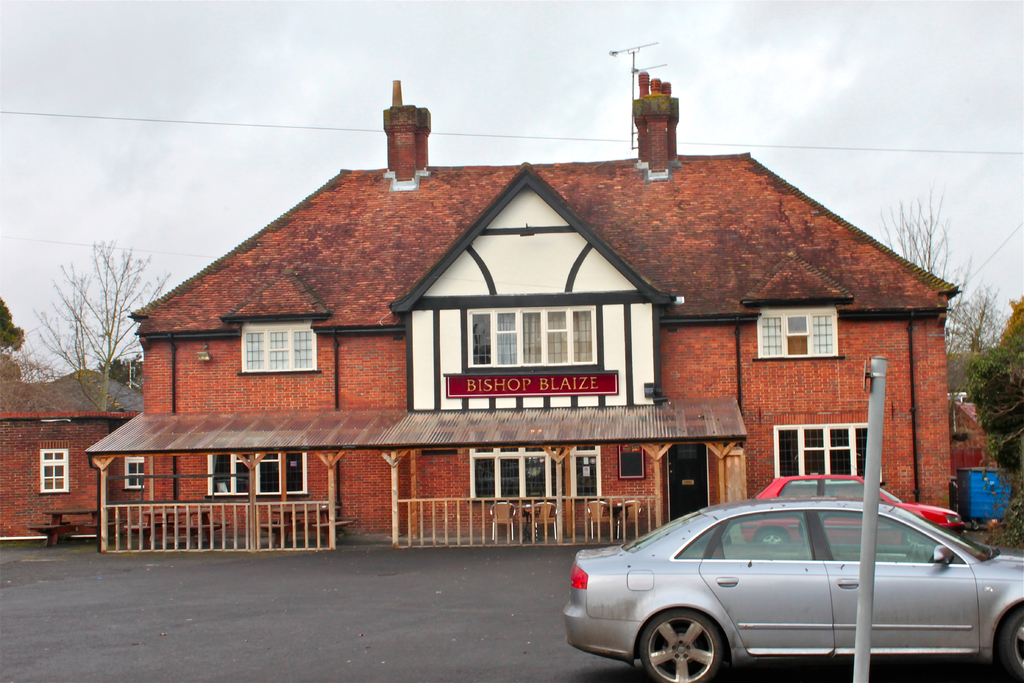Car: (568, 493, 1016, 676), (737, 472, 966, 549)
